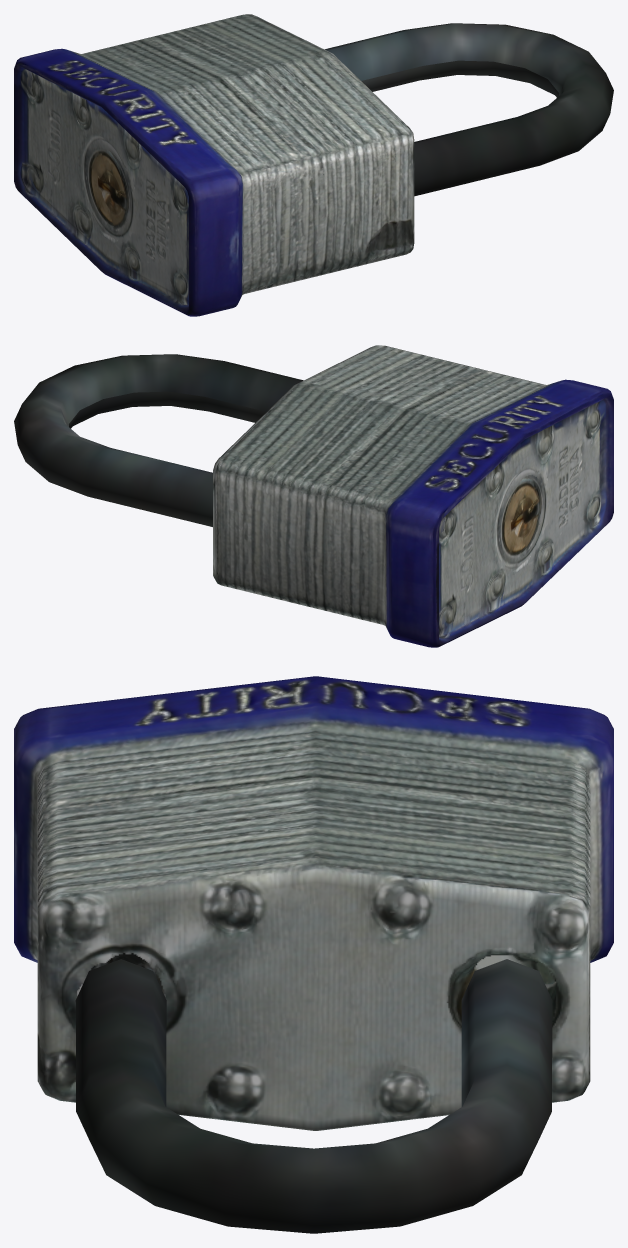
Rendered from 038_padlock.dae.
The picture shows the model from 3 angles, top to bottom: view 1: azimuth 30°, elevation 25°; view 2: azimuth 150°, elevation 25°; view 3: azimuth 270°, elevation 25°; orthographic projection. The views are drawn at different scales.
Visible parts, largest first — view 1: 038_padlock; view 2: 038_padlock; view 3: 038_padlock.
Part boxes in pixels (bbox=[...]): 038_padlock: bbox=[14, 14, 613, 316]; 038_padlock: bbox=[14, 345, 613, 647]; 038_padlock: bbox=[14, 676, 613, 1233].
Size of the model in its own units: 0.0814 by 0.0521 by 0.0276.
Materials: 1 (1 with a texture image).
